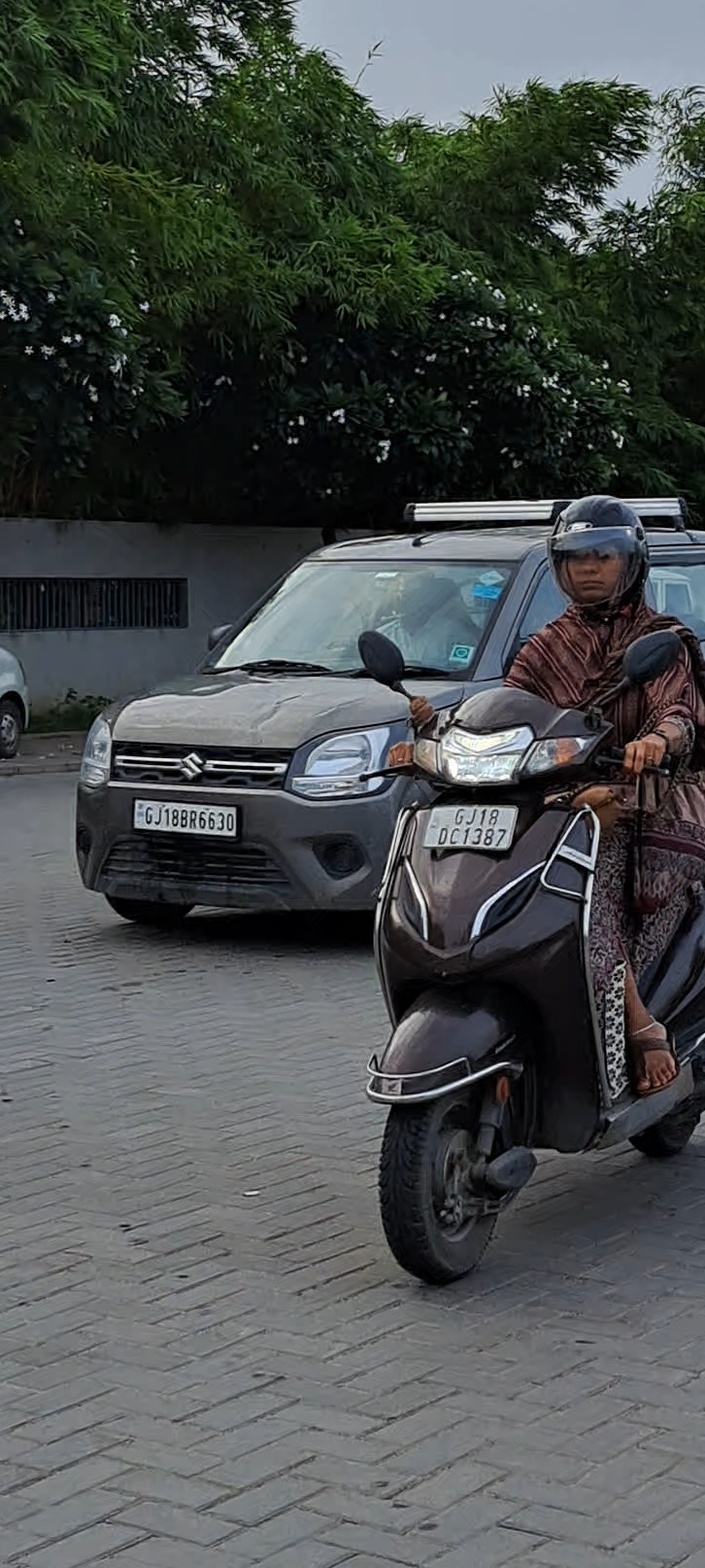BikeWithRider: (303, 442, 705, 1357)
Helmet: (524, 479, 663, 622)
